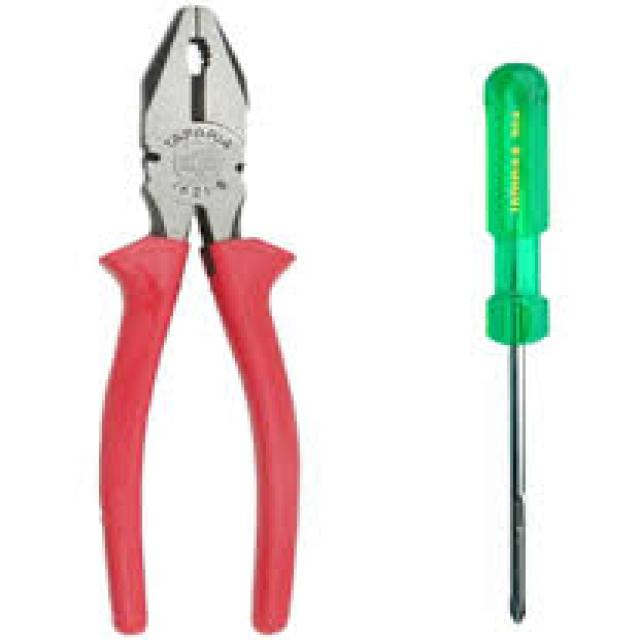Screwdriver: (484, 64, 549, 622)
